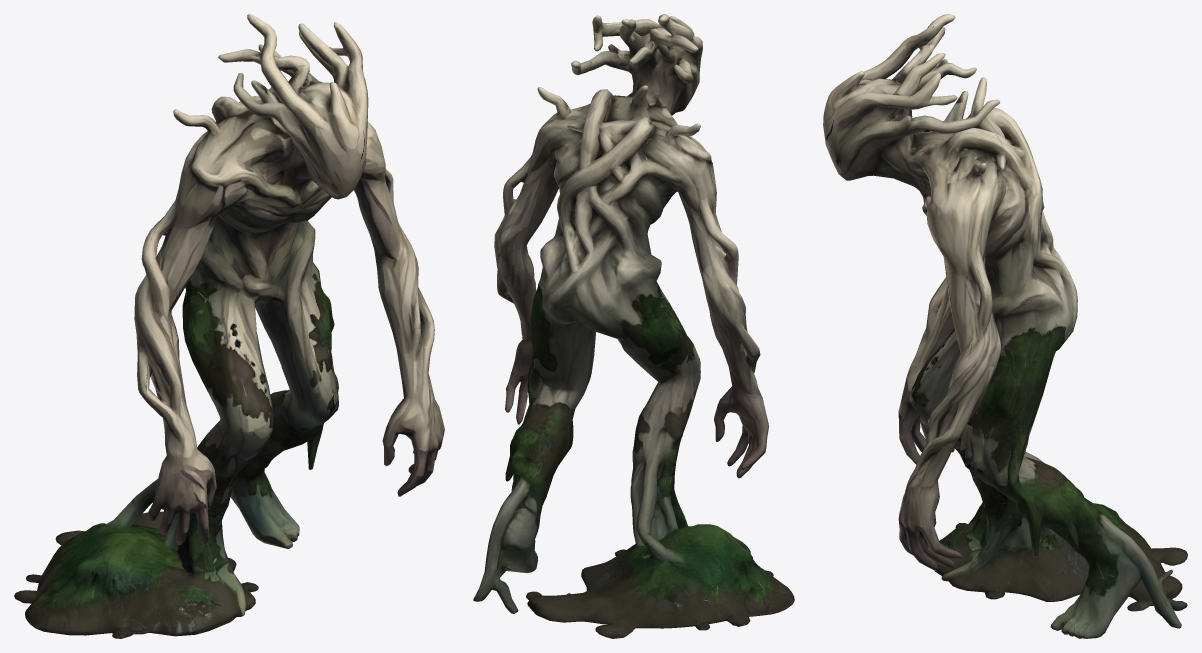
The model's file is mesh_rootling_a.glb.
3 renders of one model, left to right at view 1: azimuth 30°, elevation 25°; view 2: azimuth 150°, elevation 25°; view 3: azimuth 270°, elevation 25°, orthographic. The views are drawn at different scales.
Parts seen in each view (by area): view 1: Mesh_0; view 2: Mesh_0; view 3: Mesh_0.
Part boxes in pixels (bbox=[...]): Mesh_0: bbox=[14, 14, 444, 638]; Mesh_0: bbox=[473, 14, 794, 638]; Mesh_0: bbox=[823, 14, 1187, 638].
Size of the model in its own units: 1.21 by 1.9 by 1.1.
Materials: 1 (1 with a texture image).
